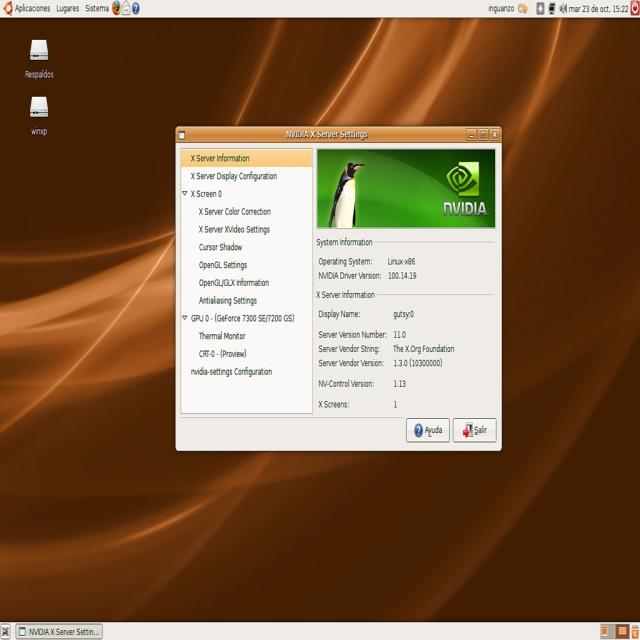nvidia: (445, 160, 482, 200)
